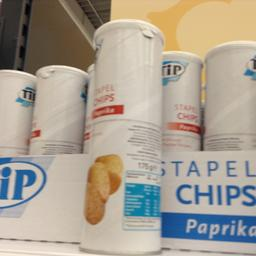chips: (79, 17, 162, 255), (206, 41, 254, 152), (28, 66, 84, 156), (0, 66, 33, 158)
